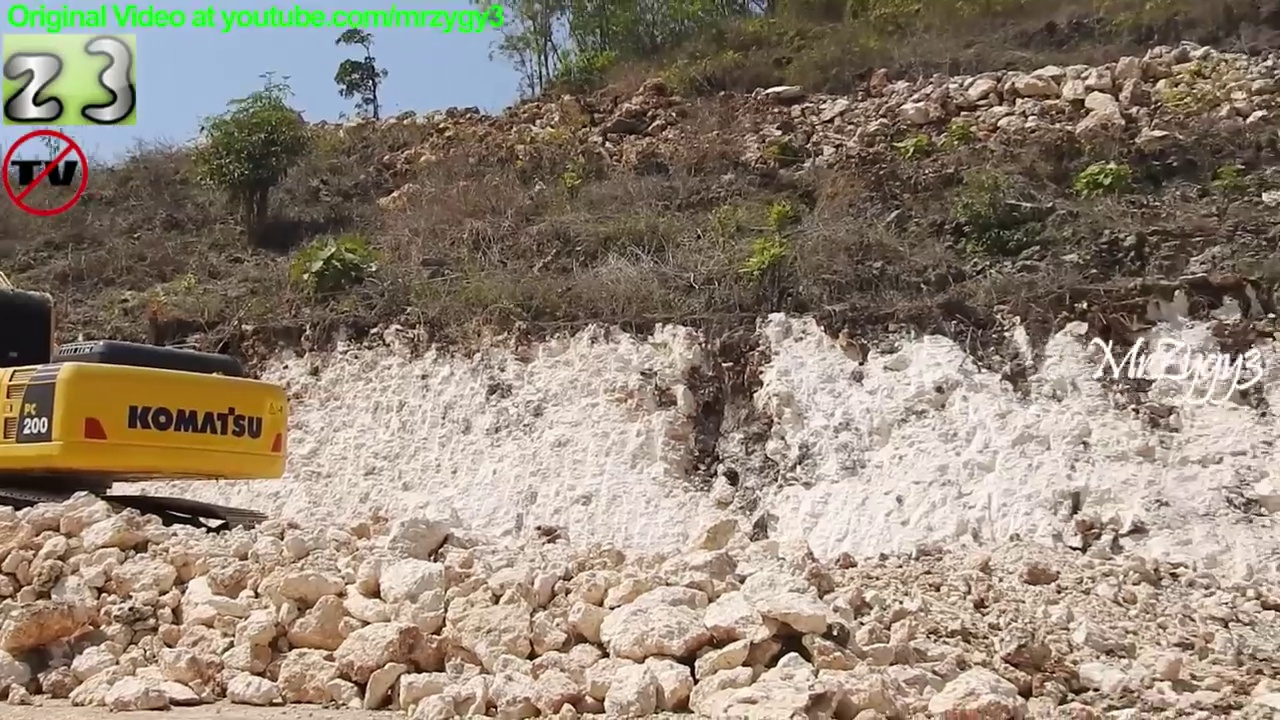excavator: (1, 274, 298, 571)
